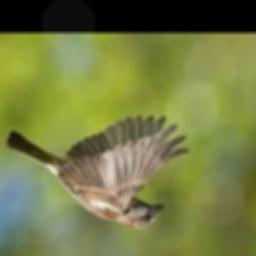Sparrow: (6, 117, 189, 229)
